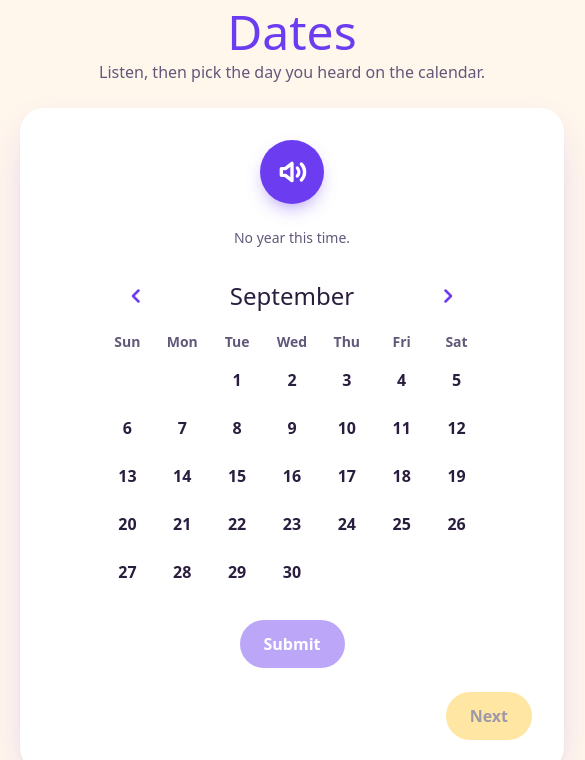
Scenario: a yearless expected date is shown without a year
Click the button named "21 September".
click(182, 524)  # box [160,502,204,546]
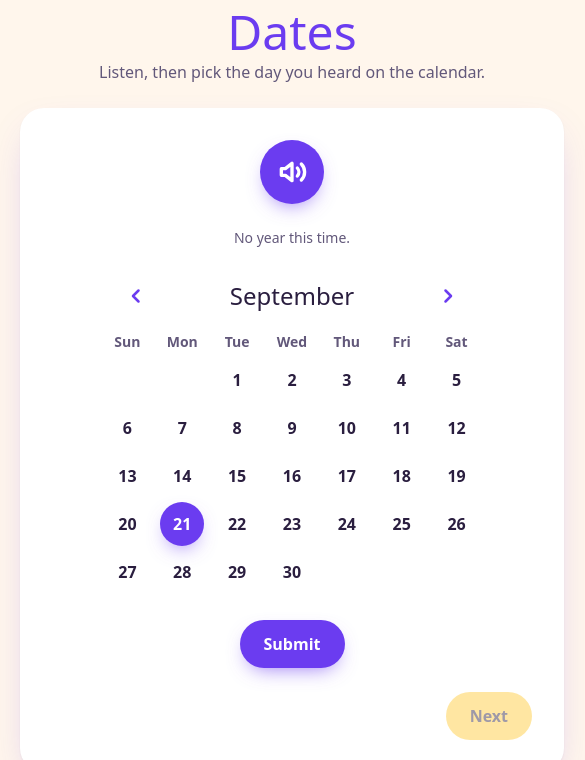
Click the button "Submit".
click(292, 644)  # box [240,620,344,668]
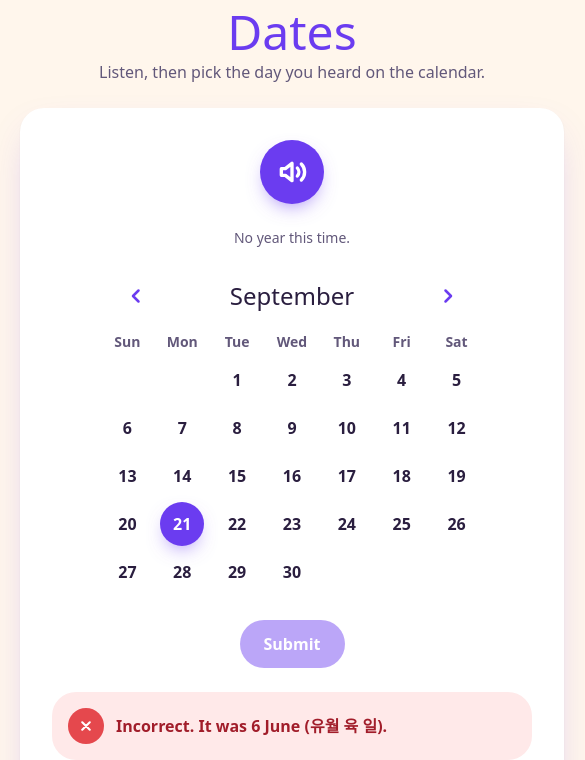
Check: the message shows "It was 6 June (", box [52,692,532,759]
